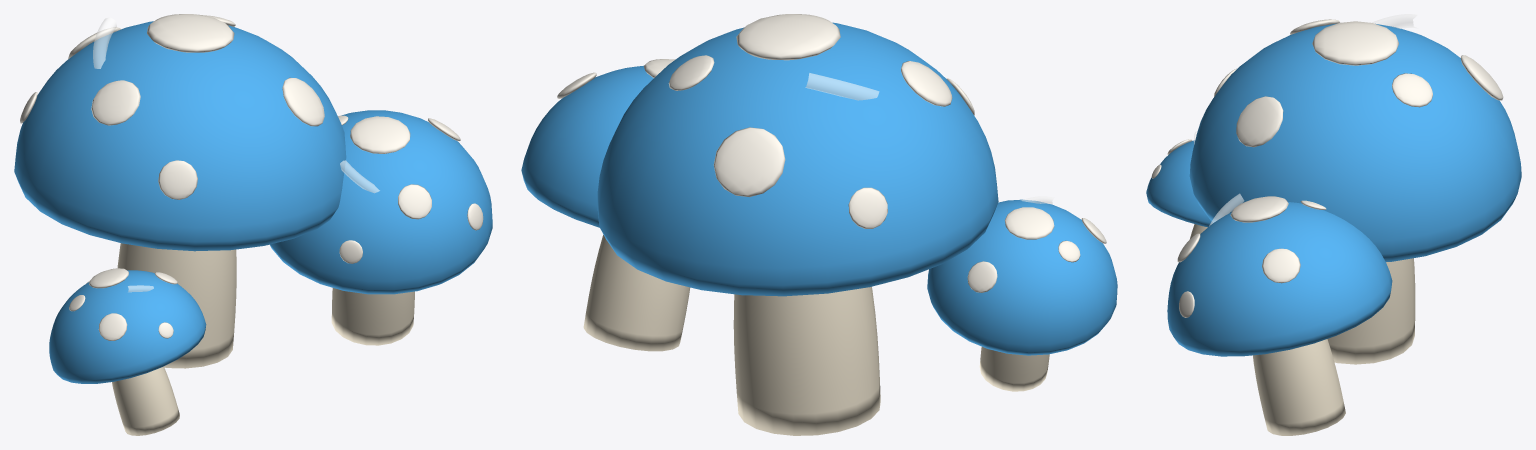
The model's file is mushroom_blue_cluster.glb.
3 renders of one model, left to right at view 1: azimuth 30°, elevation 25°; view 2: azimuth 150°, elevation 25°; view 3: azimuth 270°, elevation 25°, orthographic. The views are drawn at different scales.
Visible parts, largest first — view 1: mushroom_blue_cluster; view 2: mushroom_blue_cluster; view 3: mushroom_blue_cluster.
Boxes of the visible parts, bbox=[...] form: mushroom_blue_cluster: bbox=[14, 14, 492, 435]; mushroom_blue_cluster: bbox=[521, 14, 1117, 435]; mushroom_blue_cluster: bbox=[1146, 14, 1521, 435].
Bounding box in the file's own units: 1.02 × 0.7106 × 0.76.
